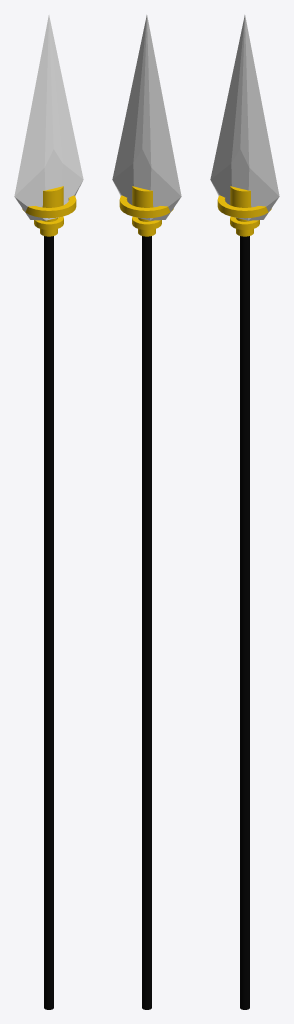
The model's file is Spear.FBX.
3 renders of one model, left to right at view 1: azimuth 30°, elevation 25°; view 2: azimuth 150°, elevation 25°; view 3: azimuth 330°, elevation 25°, orthographic.
Parts seen in each view (by area): view 1: Cylinder001; view 2: Cylinder001; view 3: Cylinder001.
Part boxes in pixels (x1,y1,x2,y2): Cylinder001: (14,15,83,1009); Cylinder001: (112,15,181,1009); Cylinder001: (210,15,279,1009).
Bounding box in the file's own units: 14.39 × 197 × 9.83.
